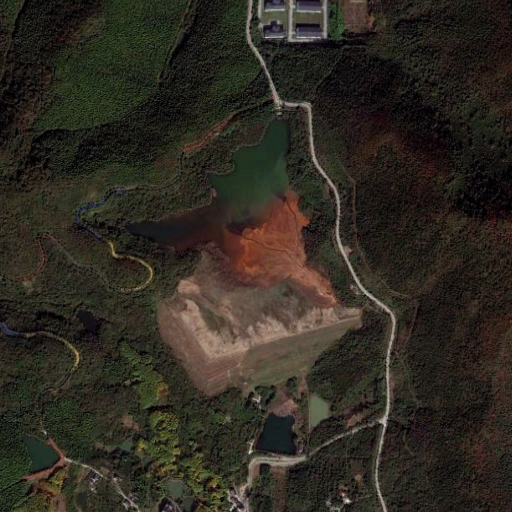tp: (125, 110, 351, 393)
